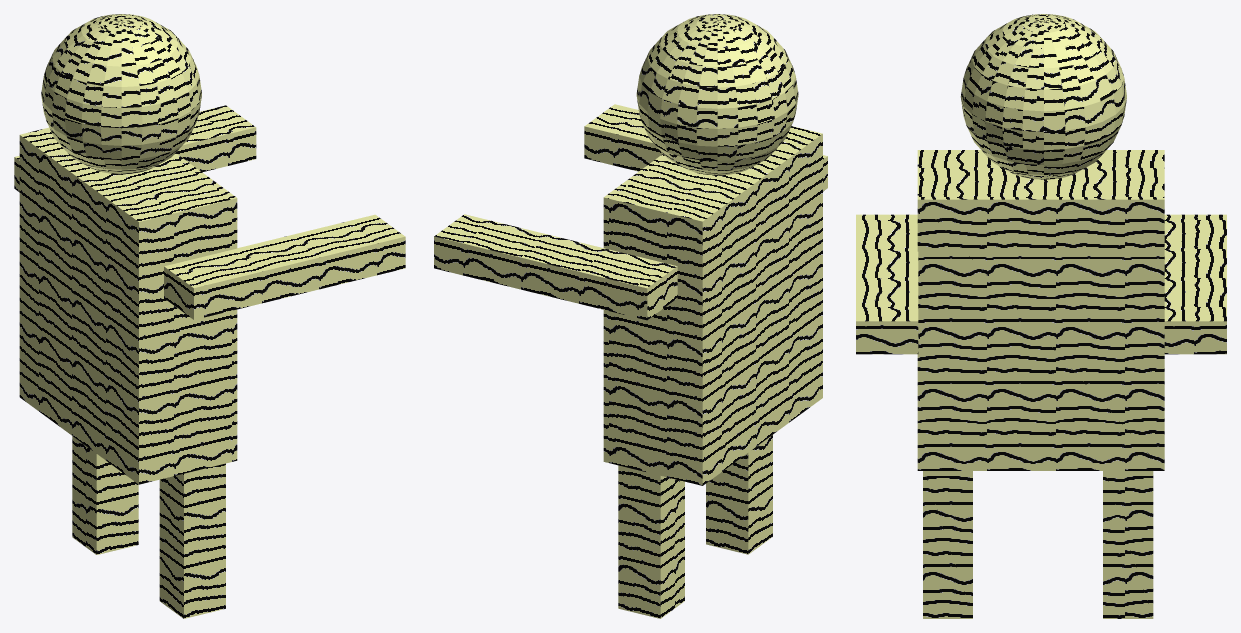
File: demaioMummy.dae
The picture shows the model from 3 angles, left to right: view 1: azimuth 30°, elevation 25°; view 2: azimuth 150°, elevation 25°; view 3: azimuth 270°, elevation 25°; orthographic projection. The views are drawn at different scales.
Visible parts, largest first — view 1: SketchUp (×5); view 2: SketchUp (×5); view 3: SketchUp (×5).
Boxes of the visible parts, x1=… form: SketchUp (×5): x1=14, y1=14, x2=405, y2=618; SketchUp (×5): x1=434, y1=14, x2=827, y2=618; SketchUp (×5): x1=856, y1=14, x2=1226, y2=618.
Size of the model in its own units: 109 by 129 by 221.
2 materials, 1 textured.
